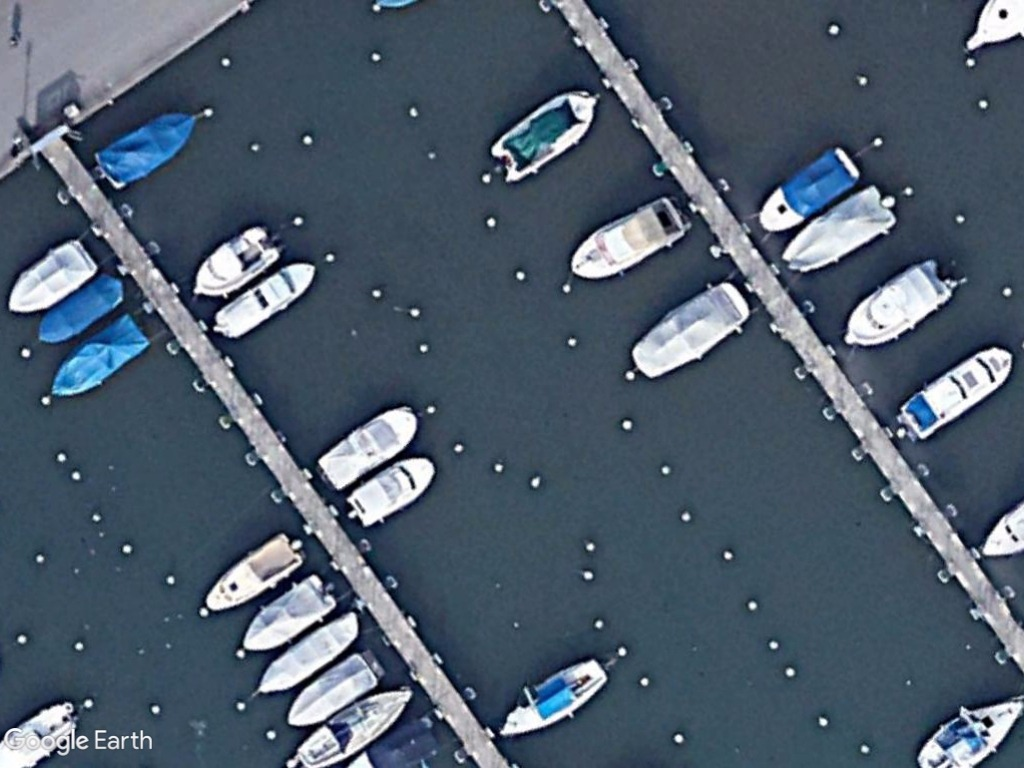boat: (627, 285, 751, 378), (563, 194, 691, 283), (843, 258, 960, 352), (489, 90, 601, 185), (897, 345, 1015, 435), (779, 188, 895, 275), (88, 104, 202, 192), (252, 607, 360, 699), (496, 652, 610, 739), (295, 685, 413, 768), (756, 146, 862, 235), (211, 253, 319, 340), (318, 401, 419, 491), (48, 310, 147, 397), (283, 647, 383, 731), (201, 531, 300, 614), (236, 570, 332, 653), (5, 234, 98, 318), (916, 693, 1015, 768), (189, 221, 283, 298), (346, 451, 440, 526), (35, 272, 126, 345)
